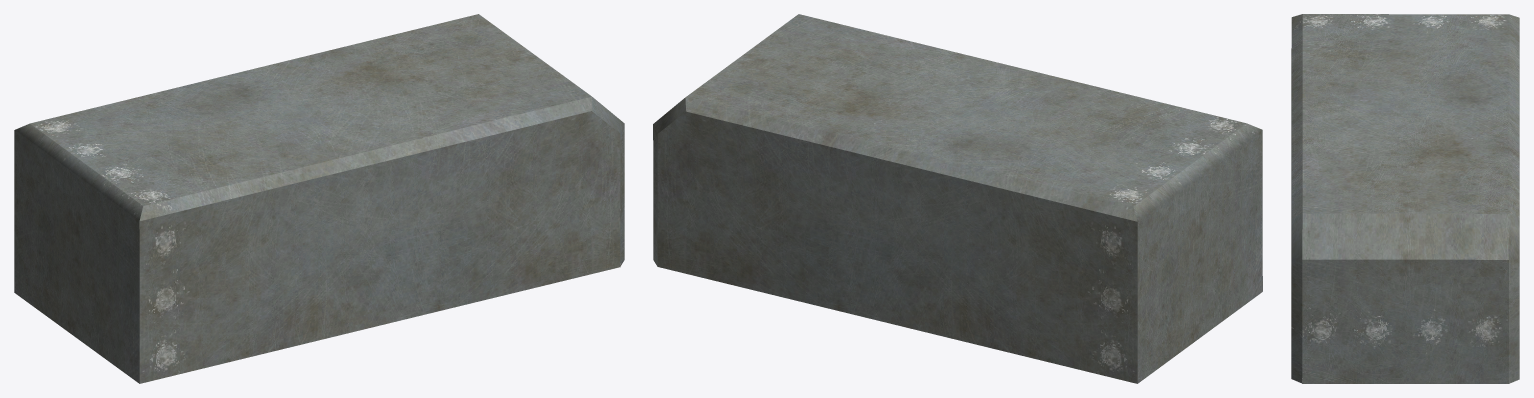
File: Ob_SupportDetail_RC.fbx
3 renders of one model, left to right at view 1: azimuth 30°, elevation 25°; view 2: azimuth 150°, elevation 25°; view 3: azimuth 270°, elevation 25°, orthographic. The views are drawn at different scales.
Parts seen in each view (by area): view 1: Ob_SupportDetail_RC; view 2: Ob_SupportDetail_RC; view 3: Ob_SupportDetail_RC.
Boxes of the visible parts, x1,y1,x2,y2 form: Ob_SupportDetail_RC: [14, 14, 624, 383]; Ob_SupportDetail_RC: [653, 14, 1262, 383]; Ob_SupportDetail_RC: [1291, 14, 1519, 383].
Bounding box in the file's own units: 886 × 295 × 392.
